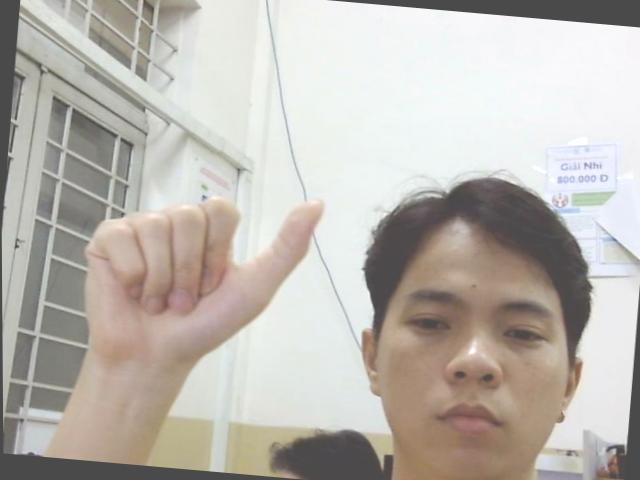A: (71, 178, 351, 382)
